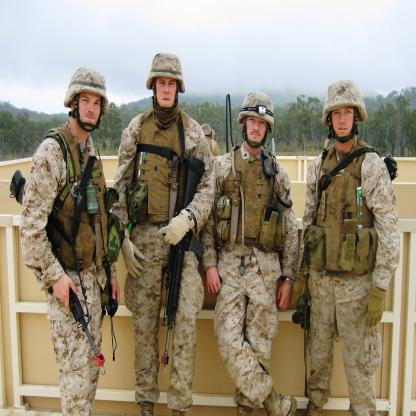Helmet: (62, 66, 111, 119), (316, 79, 366, 124), (239, 94, 279, 150), (140, 49, 184, 94)
